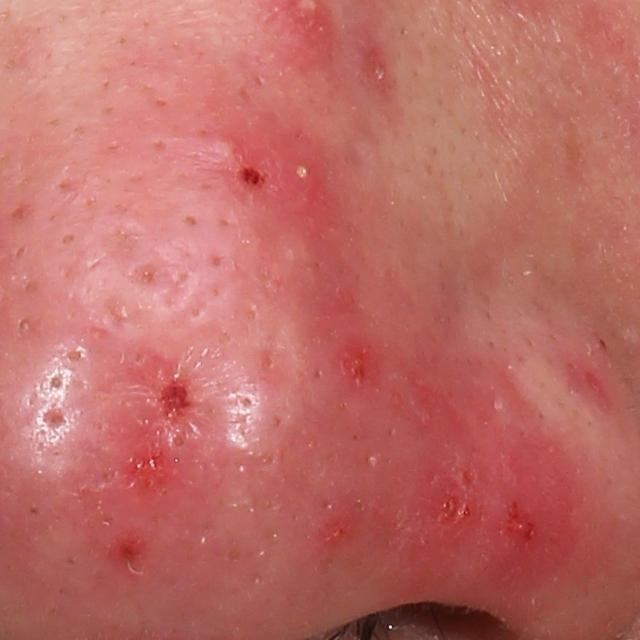comedo: (36, 369, 73, 400), (57, 344, 86, 366), (59, 229, 78, 247)
papule: (295, 497, 363, 565), (138, 369, 200, 433), (196, 123, 256, 177), (328, 343, 388, 394), (230, 161, 280, 205), (106, 533, 149, 580)
